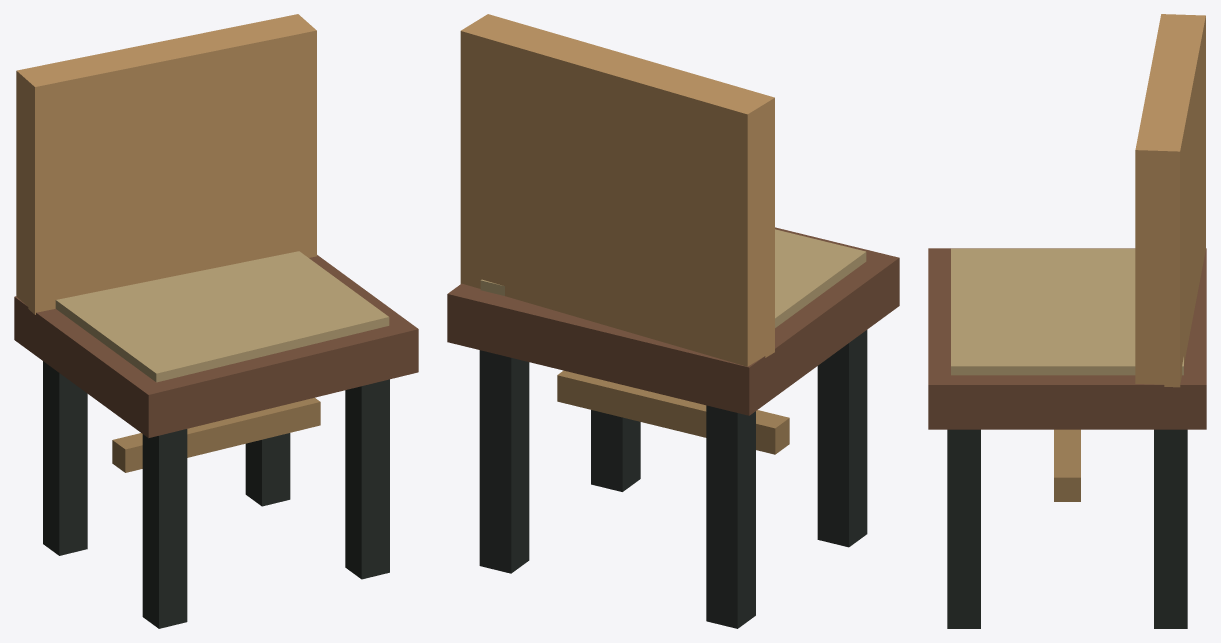
The model's file is arca.glb.
3 views of the same model, side by side, from view 1: azimuth 30°, elevation 25°; view 2: azimuth 150°, elevation 25°; view 3: azimuth 270°, elevation 25° (orthographic). The views are drawn at different scales.
Parts seen in each view (by area): view 1: back, leg (×4), woven_seat, seat, brace; view 2: back, leg (×4), seat, brace, woven_seat; view 3: woven_seat, back, seat, leg (×2), brace.
Boxes of the visible parts, x1=… form: back: x1=16, y1=14, x2=316, y2=314; leg (×4): x1=43, y1=361, x2=389, y2=628; woven_seat: x1=55, y1=251, x2=389, y2=382; seat: x1=14, y1=255, x2=418, y2=438; brace: x1=112, y1=397, x2=320, y2=472; back: x1=460, y1=14, x2=774, y2=366; leg (×4): x1=479, y1=330, x2=867, y2=628; seat: x1=447, y1=227, x2=899, y2=415; brace: x1=557, y1=370, x2=789, y2=454; woven_seat: x1=480, y1=229, x2=866, y2=327; woven_seat: x1=951, y1=248, x2=1183, y2=375; back: x1=1135, y1=14, x2=1205, y2=387; seat: x1=928, y1=248, x2=1206, y2=429; leg (×2): x1=947, y1=429, x2=1187, y2=628; brace: x1=1054, y1=429, x2=1080, y2=501.
Size of the model in its own units: 0.7257 by 1.2 by 0.62.
